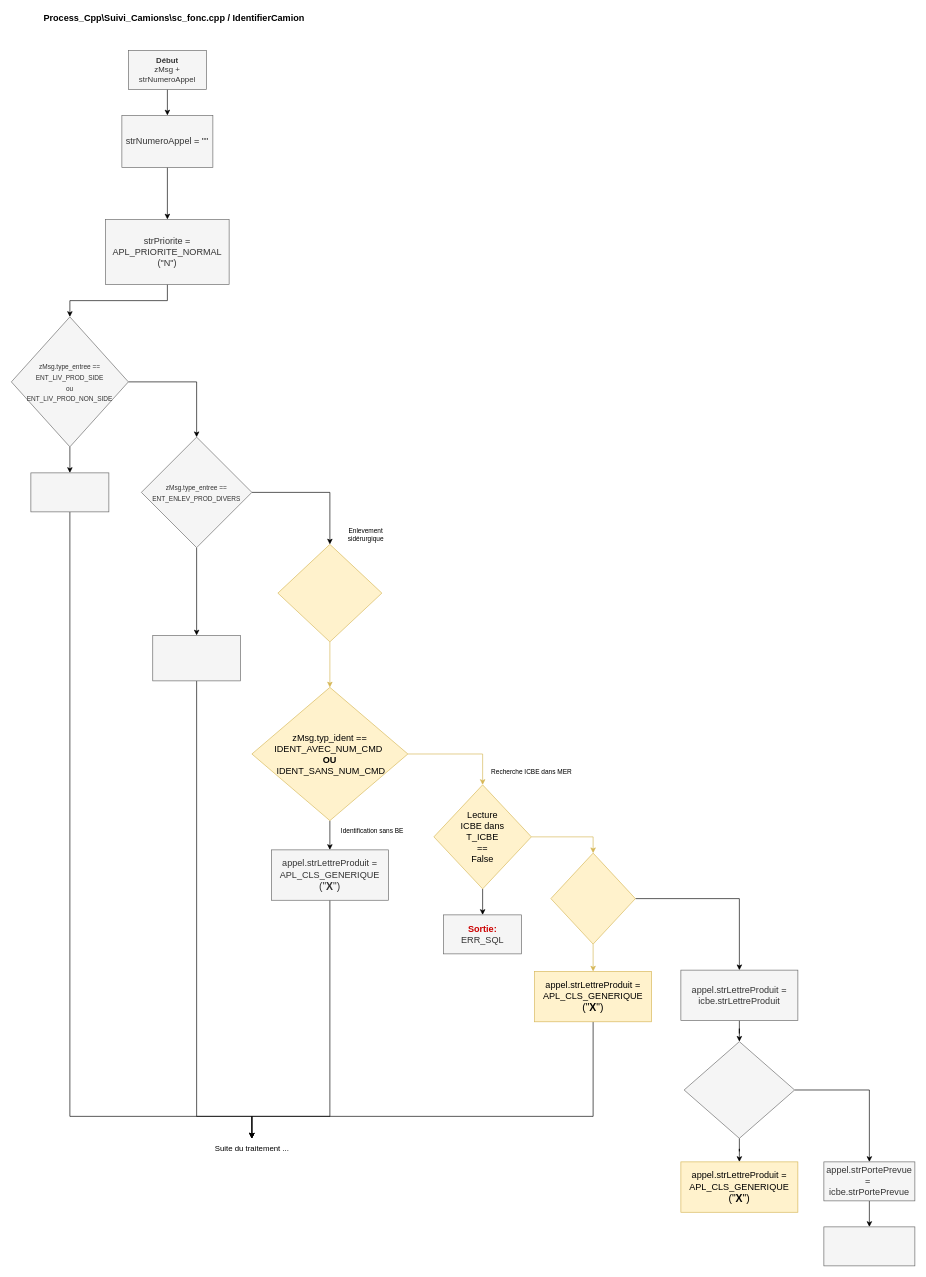
The diagram is 926 pixels wide and 1277 high, and some of its shapes have lost their labels. The shapes that lost their labels are listed below. From the top down, each one's centre as x and y in pixels, then its label:
[69,492]: appel.strLettreProduit = APL_CLS_LIVRAISON (" L ")
[329,593]: zMsg.type_entree == ENT_ENLEV_PROD_SIDE
[196,658]: appel.strLettreProduit = APL_CLS_ENLEV_DIVERS (" D ")
[592,898]: ICBE n'existe pas dans MER
[739,1089]: icbe.strLettreProduit == "" OU " "
[869,1246]: strPriorite = icbe.strPriorite
